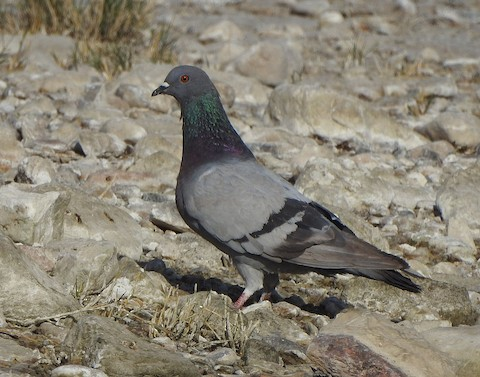pigeon: (146, 62, 429, 316)
